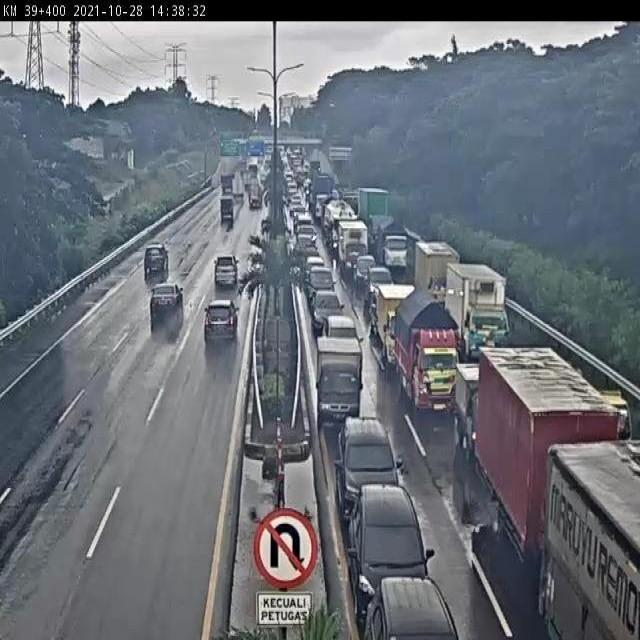big truck: (376, 216, 411, 268)
car: (335, 481, 438, 603), (362, 576, 463, 640), (335, 414, 407, 494), (199, 296, 241, 344), (302, 283, 346, 325), (311, 313, 365, 347), (146, 283, 189, 321), (141, 237, 172, 283), (211, 254, 243, 294), (302, 264, 339, 295), (353, 253, 375, 283), (366, 268, 390, 293), (296, 234, 323, 254), (448, 459, 449, 460)
small truck: (448, 265, 519, 360), (401, 287, 456, 404), (308, 336, 370, 432), (451, 360, 486, 449), (416, 242, 456, 302), (338, 216, 374, 269), (465, 492, 466, 496), (579, 224, 580, 227), (382, 371, 384, 372)
